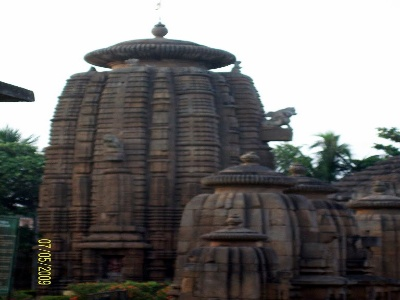amalaka: (82, 36, 240, 72), (197, 162, 298, 192), (197, 222, 275, 251)
gopuram: (32, 61, 297, 166)
